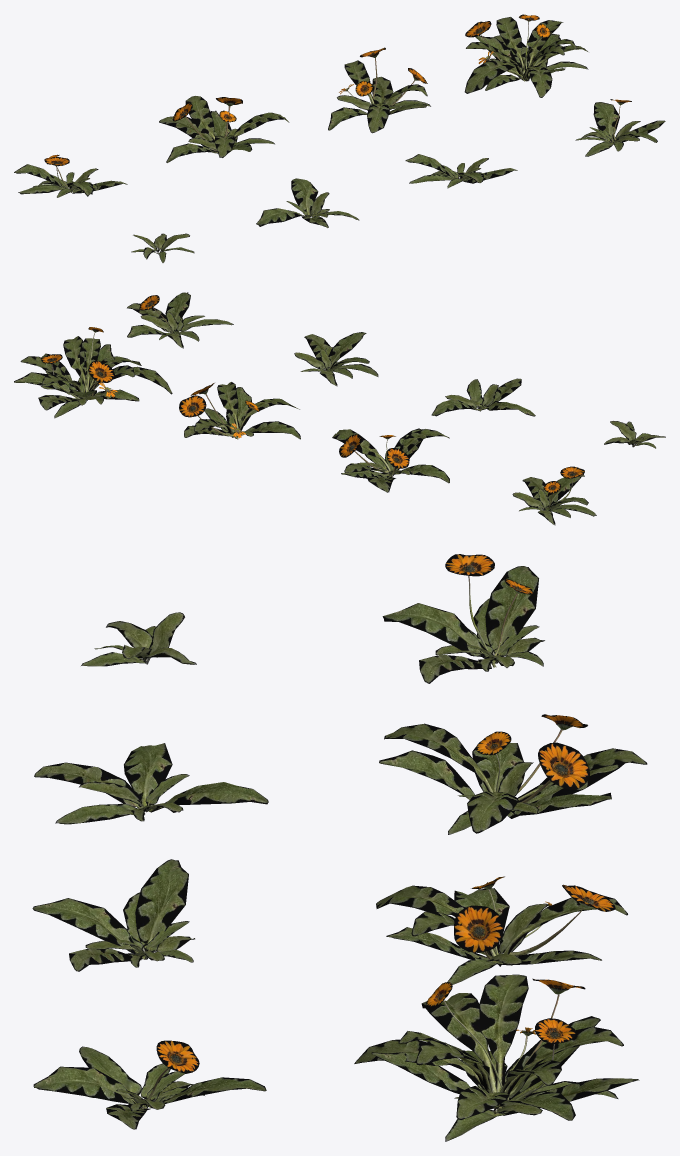
Rendered from flower_gazania.glb.
3 renders of one model, top to bottom at view 1: azimuth 30°, elevation 25°; view 2: azimuth 150°, elevation 25°; view 3: azimuth 270°, elevation 25°, orthographic. The views are drawn at different scales.
Visible parts, largest first — view 1: flower_gazania_h_LOD0, flower_gazania_f_LOD0, flower_gazania_g_LOD0, flower_gazania_d_LOD0, flower_gazania_b_LOD0, flower_gazania_e_LOD0, flower_gazania_c_LOD0, flower_gazania_a_LOD0; view 2: flower_gazania_h_LOD0, flower_gazania_g_LOD0, flower_gazania_f_LOD0, flower_gazania_d_LOD0, flower_gazania_e_LOD0, flower_gazania_c_LOD0, flower_gazania_b_LOD0, flower_gazania_a_LOD0; view 3: flower_gazania_h_LOD0, flower_gazania_f_LOD0, flower_gazania_g_LOD0, flower_gazania_e_LOD0, flower_gazania_c_LOD0, flower_gazania_d_LOD0, flower_gazania_b_LOD0, flower_gazania_a_LOD0.
Part boxes in pixels (left/top/right/bottom): flower_gazania_h_LOD0: left=464, top=14, right=588, bottom=97; flower_gazania_f_LOD0: left=159, top=96, right=289, bottom=162; flower_gazania_g_LOD0: left=328, top=47, right=430, bottom=133; flower_gazania_d_LOD0: left=575, top=99, right=665, bottom=156; flower_gazania_b_LOD0: left=256, top=178, right=359, bottom=227; flower_gazania_e_LOD0: left=14, top=154, right=127, bottom=197; flower_gazania_c_LOD0: left=405, top=154, right=517, bottom=188; flower_gazania_a_LOD0: left=131, top=233, right=194, bottom=262; flower_gazania_h_LOD0: left=14, top=327, right=172, bottom=418; flower_gazania_g_LOD0: left=179, top=382, right=300, bottom=439; flower_gazania_f_LOD0: left=332, top=428, right=449, bottom=492; flower_gazania_d_LOD0: left=127, top=292, right=233, bottom=348; flower_gazania_e_LOD0: left=512, top=466, right=596, bottom=525; flower_gazania_c_LOD0: left=294, top=332, right=378, bottom=386; flower_gazania_b_LOD0: left=431, top=378, right=535, bottom=416; flower_gazania_a_LOD0: left=604, top=421, right=665, bottom=448; flower_gazania_h_LOD0: left=354, top=974, right=639, bottom=1141; flower_gazania_f_LOD0: left=379, top=714, right=647, bottom=834; flower_gazania_g_LOD0: left=376, top=876, right=627, bottom=984; flower_gazania_e_LOD0: left=382, top=554, right=544, bottom=683; flower_gazania_c_LOD0: left=32, top=859, right=194, bottom=971; flower_gazania_d_LOD0: left=33, top=1040, right=266, bottom=1129; flower_gazania_b_LOD0: left=34, top=743, right=268, bottom=824; flower_gazania_a_LOD0: left=81, top=612, right=196, bottom=666.
Size of the model in its own units: 1.48 by 0.1655 by 0.7028.
1 material, 1 textured.
